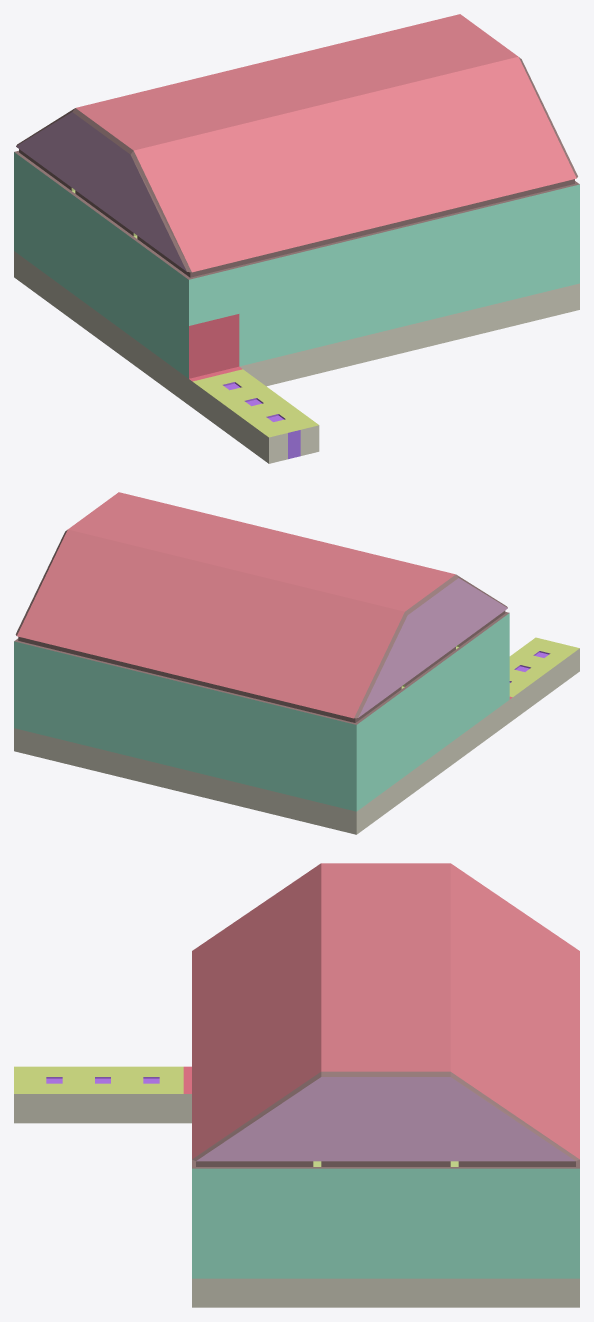
The model's file is warehouse.fbx.
3 renders of one model, top to bottom at view 1: azimuth 30°, elevation 25°; view 2: azimuth 150°, elevation 25°; view 3: azimuth 270°, elevation 25°, orthographic. The views are drawn at different scales.
Visible parts, largest first — view 1: bsp_model_0; view 2: bsp_model_0; view 3: bsp_model_0.
Part boxes in pixels (x1=…): bsp_model_0: x1=14, y1=14, x2=579, y2=463; bsp_model_0: x1=14, y1=492, x2=579, y2=834; bsp_model_0: x1=14, y1=863, x2=579, y2=1307.
Bounding box in the file's own units: 6200 × 3200 × 7000.
